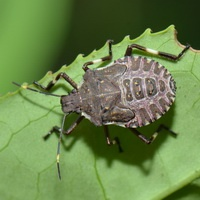insect: (15, 26, 199, 182), (135, 97, 176, 139)
